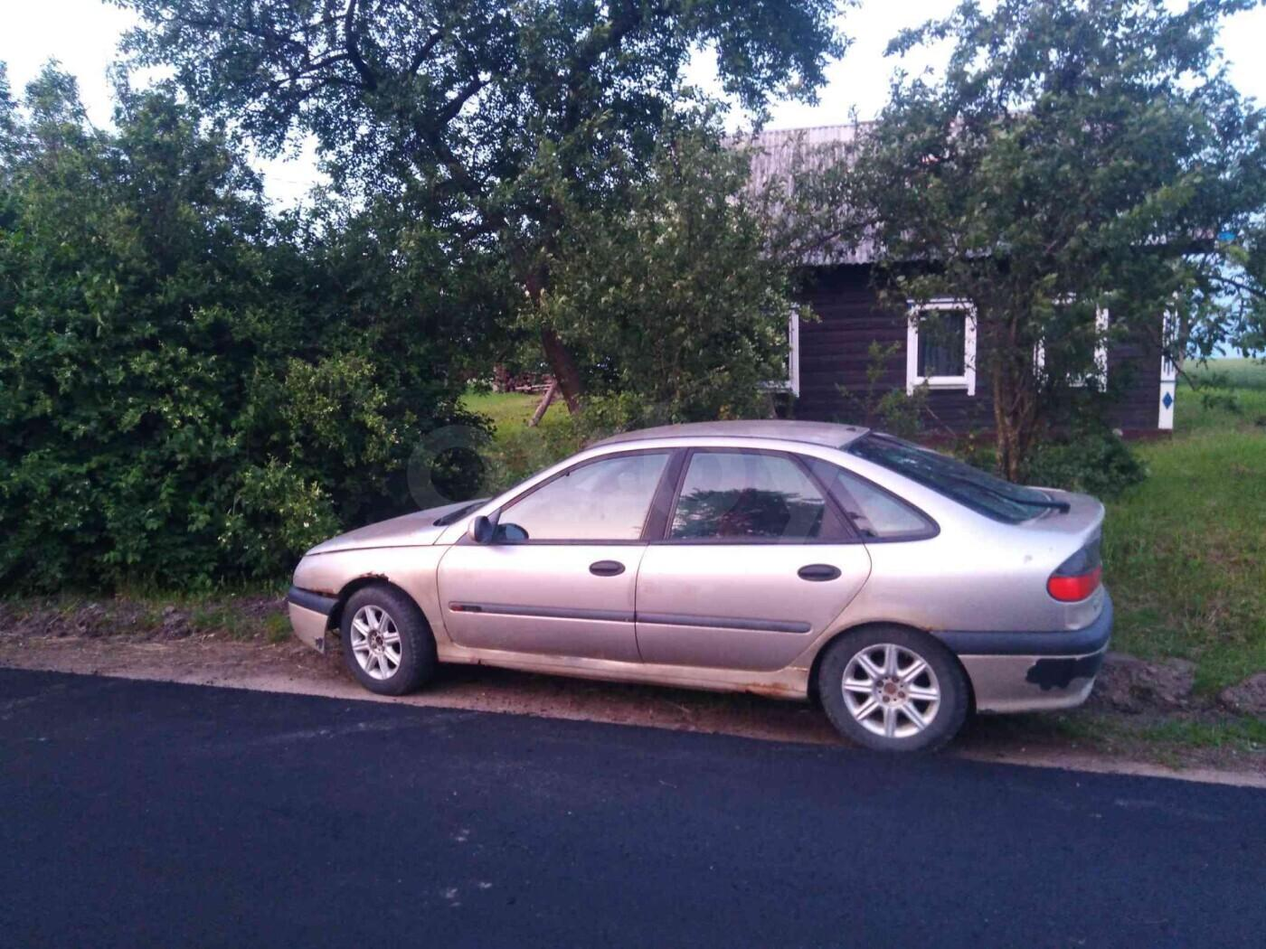Lahuna_1993-1999: (284, 414, 1112, 758)
